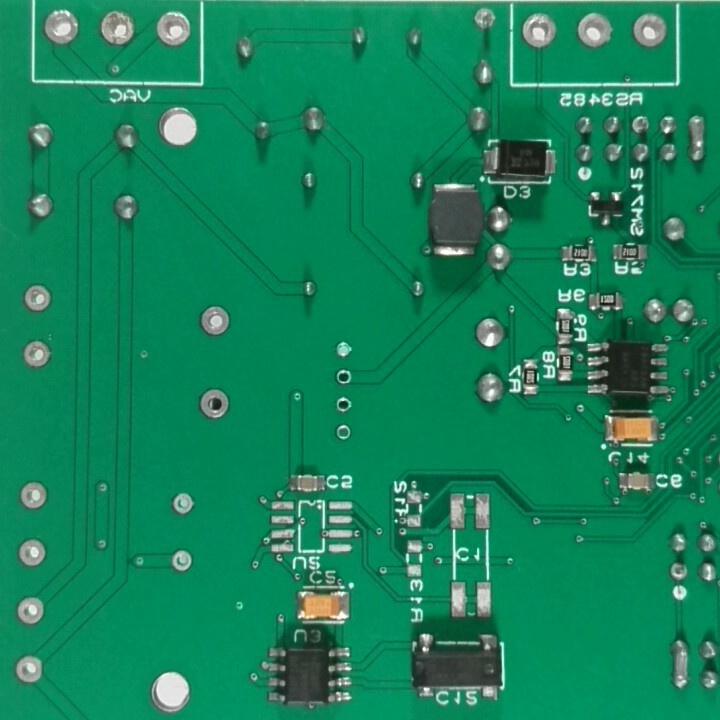F: (152, 7, 198, 54), (93, 7, 139, 50), (40, 6, 83, 49), (629, 9, 670, 54), (573, 9, 615, 50), (519, 12, 561, 53), (196, 300, 232, 346), (197, 384, 232, 423), (13, 650, 48, 688), (12, 591, 47, 629), (16, 477, 51, 515), (16, 535, 52, 568), (20, 338, 53, 373), (22, 284, 54, 320), (168, 489, 197, 520), (169, 543, 196, 575), (470, 7, 501, 32), (627, 112, 652, 138), (667, 558, 690, 584), (332, 393, 356, 417), (330, 369, 356, 388), (333, 421, 354, 443), (331, 340, 353, 361)
P: (667, 632, 691, 696), (684, 110, 710, 169)
